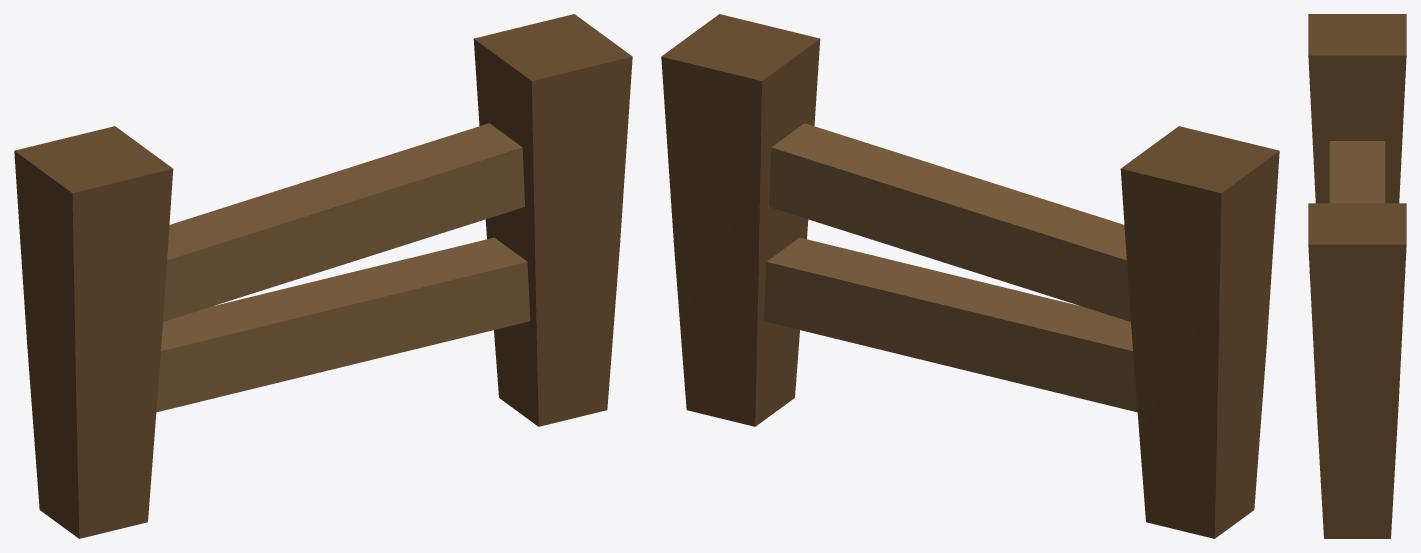
Rendered from Fence_02.fbx.
3 views of the same model, side by side, from view 1: azimuth 30°, elevation 25°; view 2: azimuth 150°, elevation 25°; view 3: azimuth 270°, elevation 25° (orthographic). The views are drawn at different scales.
Visible parts, largest first — view 1: Fence_02; view 2: Fence_02; view 3: Fence_02.
Part boxes in pixels (<box>): Fence_02: <box>14,14,632,538</box>; Fence_02: <box>661,14,1279,538</box>; Fence_02: <box>1308,14,1406,538</box>.
Bounding box in the file's own units: 1.95 × 1.19 × 0.3511.
